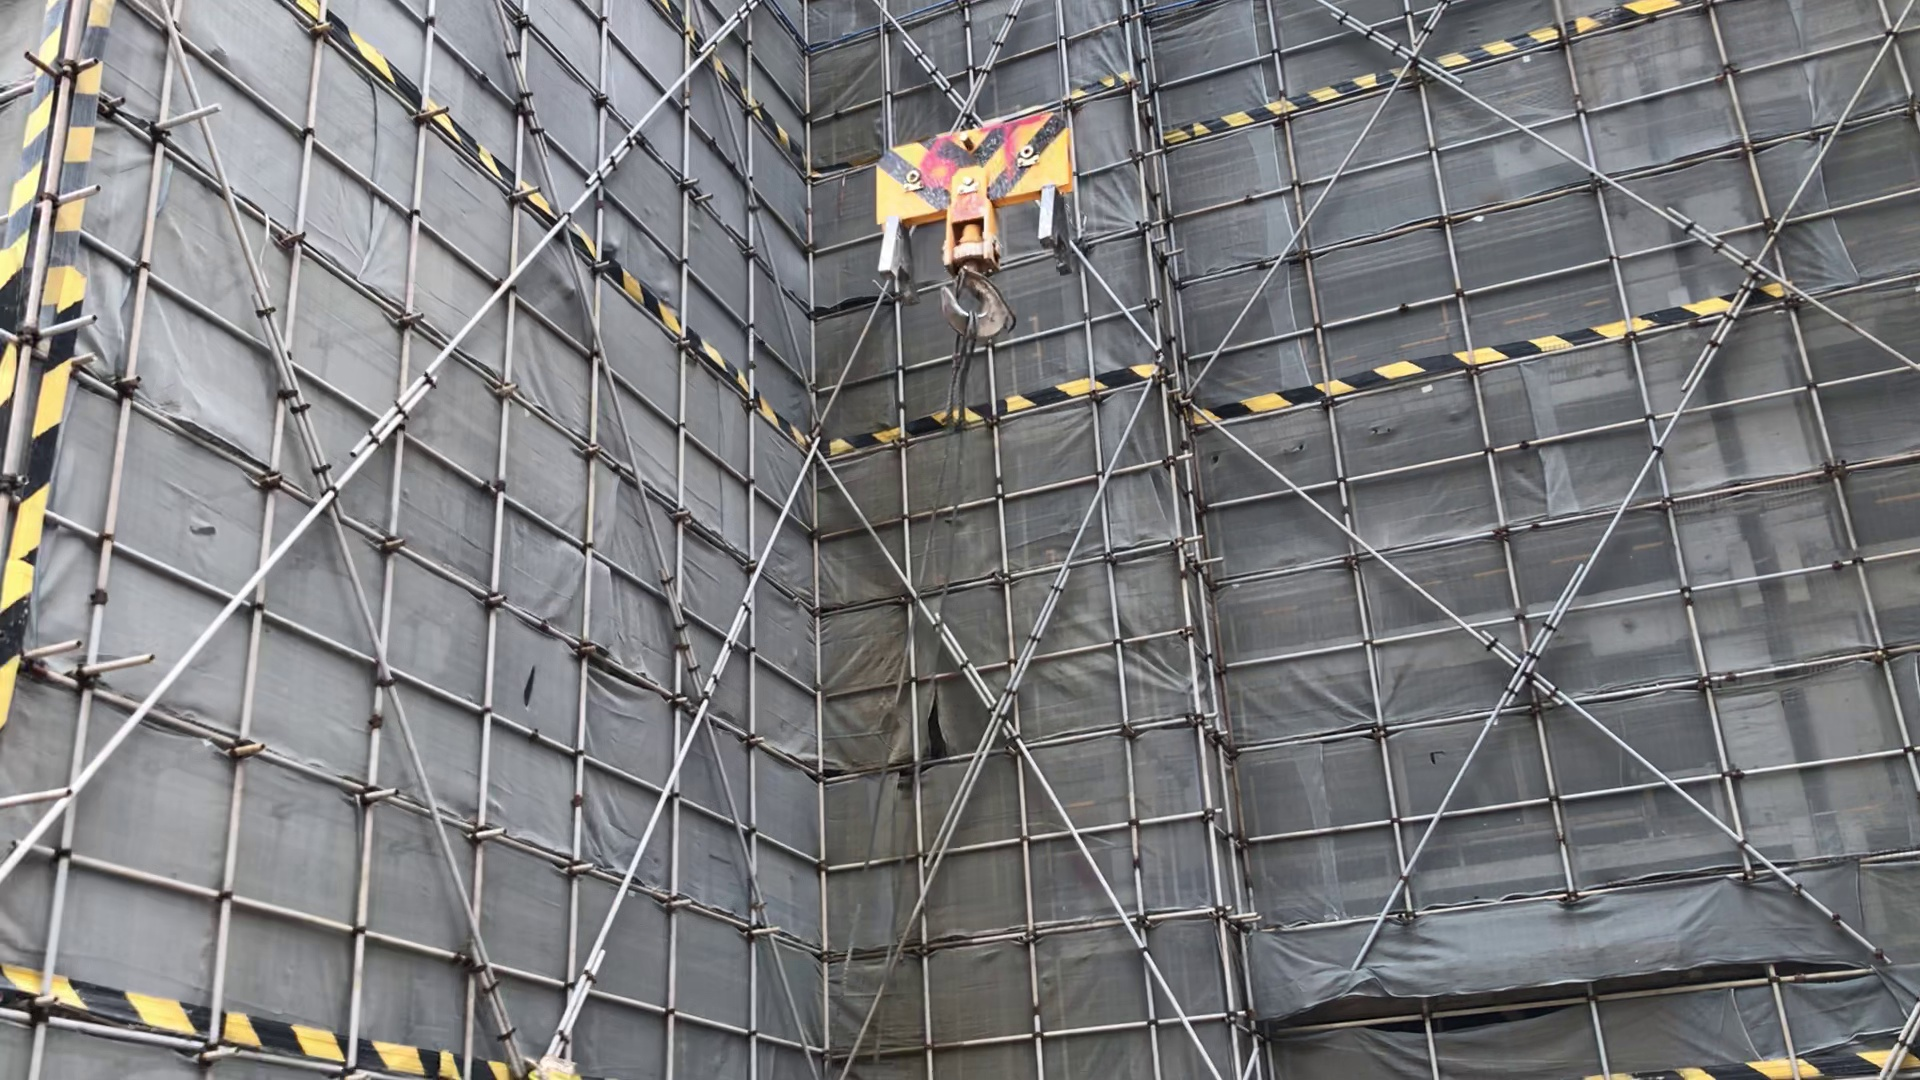hook: (866, 112, 1085, 339)
